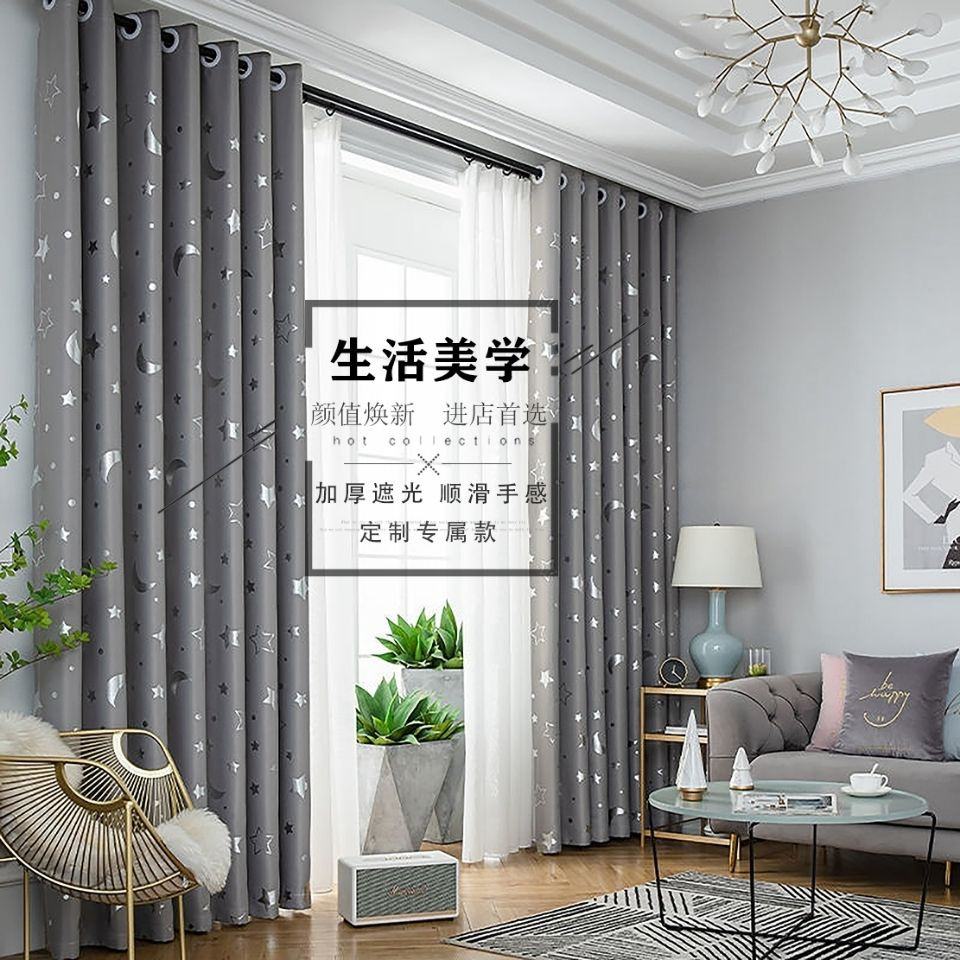bantal: (838, 651, 950, 764)
gelas: (842, 770, 897, 800)
kursi: (3, 713, 238, 959)
lampu: (667, 520, 767, 687)
lukisan: (874, 375, 960, 609)
meja: (635, 778, 940, 960)
sova: (715, 655, 960, 894)
tanaman: (2, 397, 96, 696), (333, 681, 466, 850), (371, 601, 481, 691)
